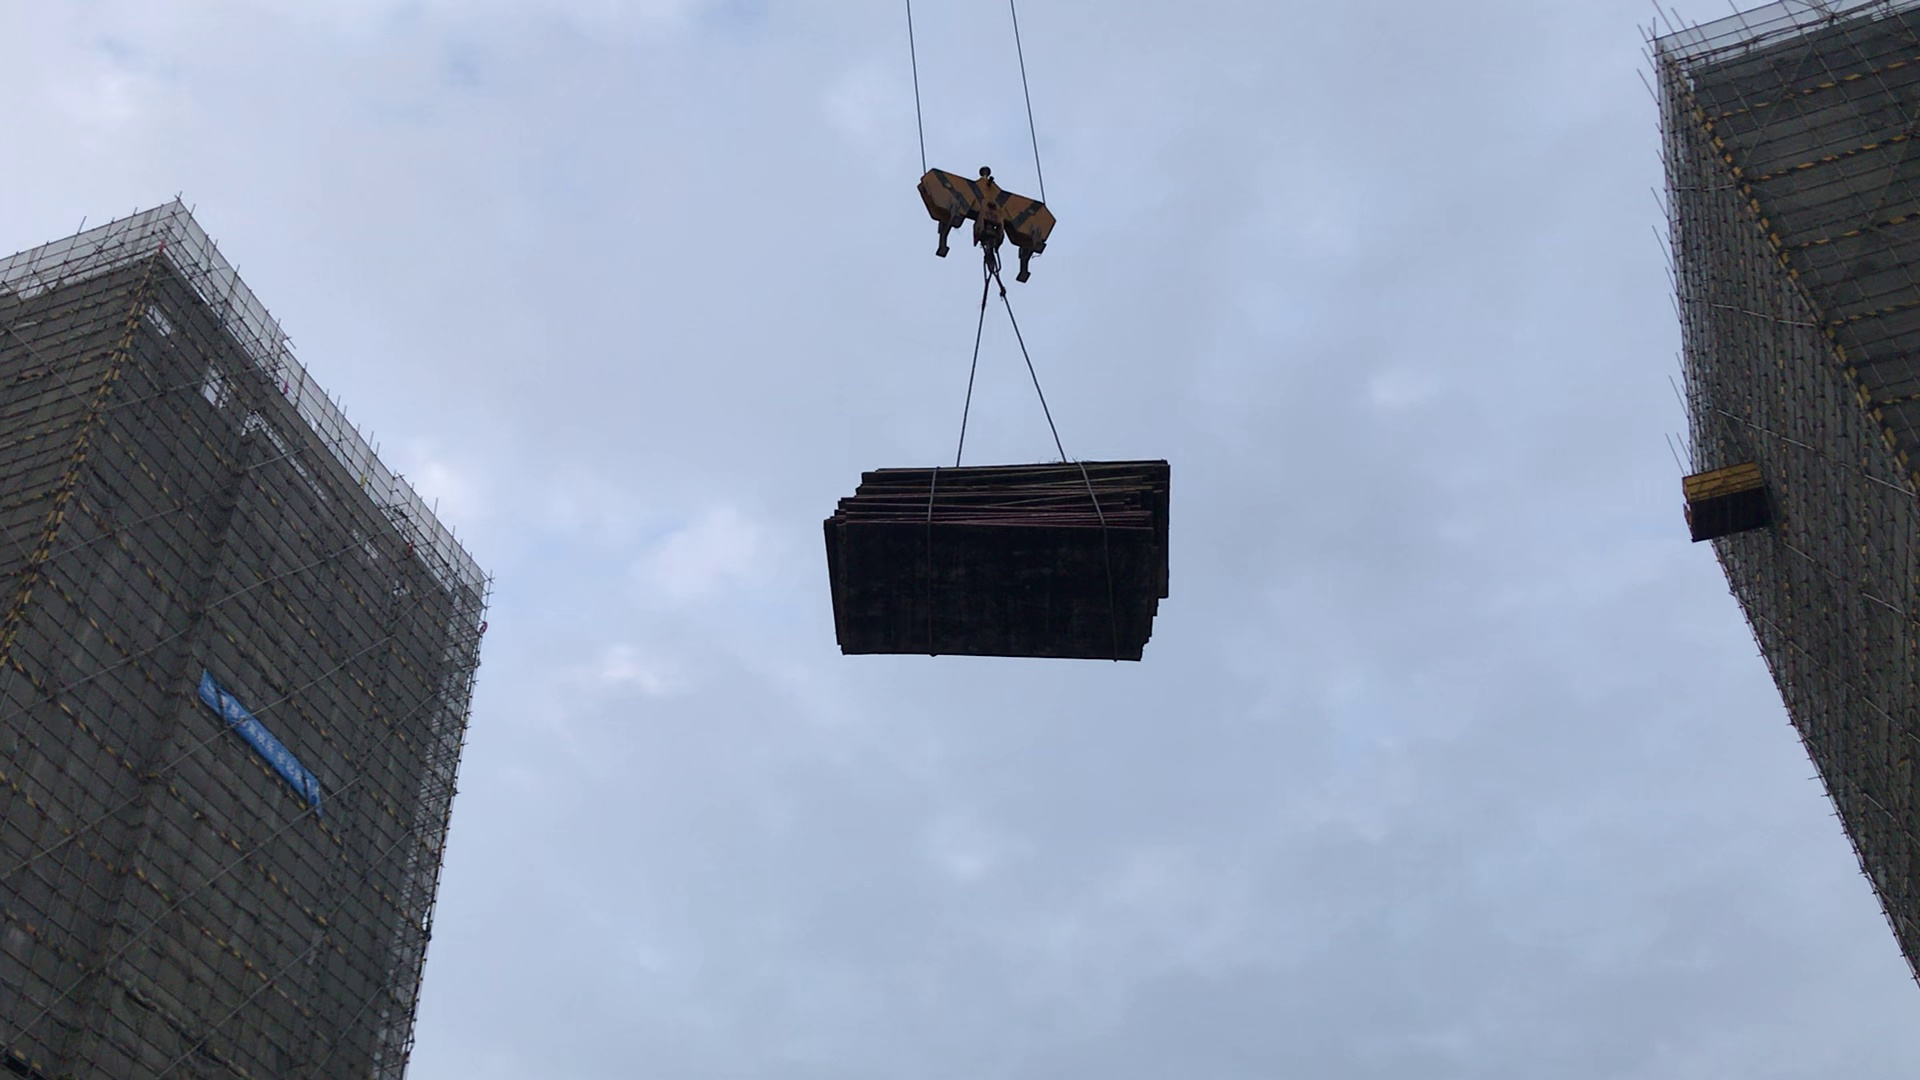board: (818, 458, 1178, 673)
hook: (911, 160, 1062, 286)
slogan: (195, 665, 326, 810)
